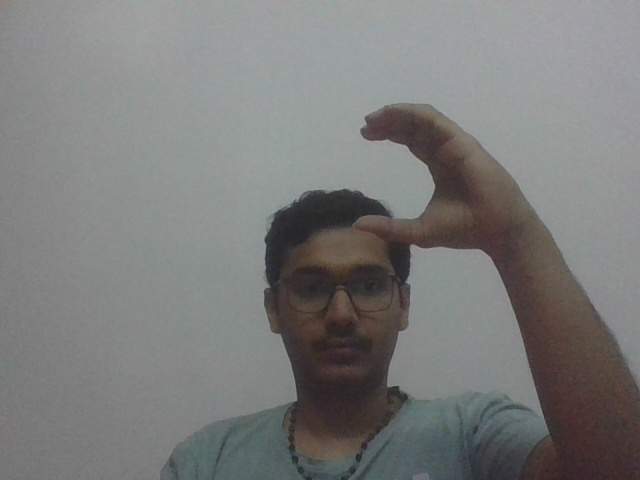C: (355, 100, 529, 248)
